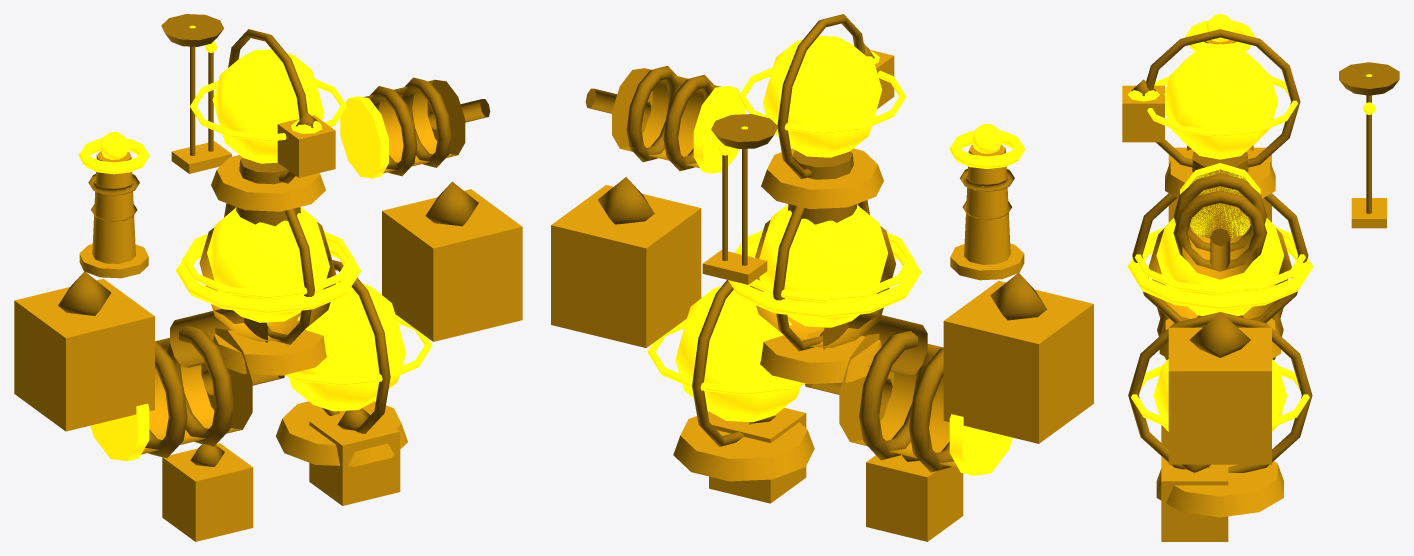
Rendered from golem_100.glb.
The picture shows the model from 3 angles, left to right: view 1: azimuth 30°, elevation 25°; view 2: azimuth 150°, elevation 25°; view 3: azimuth 270°, elevation 25°; orthographic projection. The views are drawn at different scales.
Parts seen in each view (by area): view 1: Body, Glow, Detail; view 2: Body, Glow, Detail; view 3: Body, Glow, Detail.
Part boxes in pixels (x1=…): Body: x1=14, y1=79, x2=522, y2=541; Glow: x1=78, y1=25, x2=432, y2=461; Detail: x1=58, y1=14, x2=490, y2=466; Body: x1=551, y1=50, x2=1093, y2=541; Glow: x1=647, y1=35, x2=1025, y2=475; Detail: x1=585, y1=14, x2=1047, y2=472; Body: x1=1122, y1=40, x2=1386, y2=541; Glow: x1=1127, y1=14, x2=1375, y2=431; Detail: x1=1128, y1=29, x2=1399, y2=472.
Size of the model in its own units: 1.28 by 1.24 by 0.6707.
